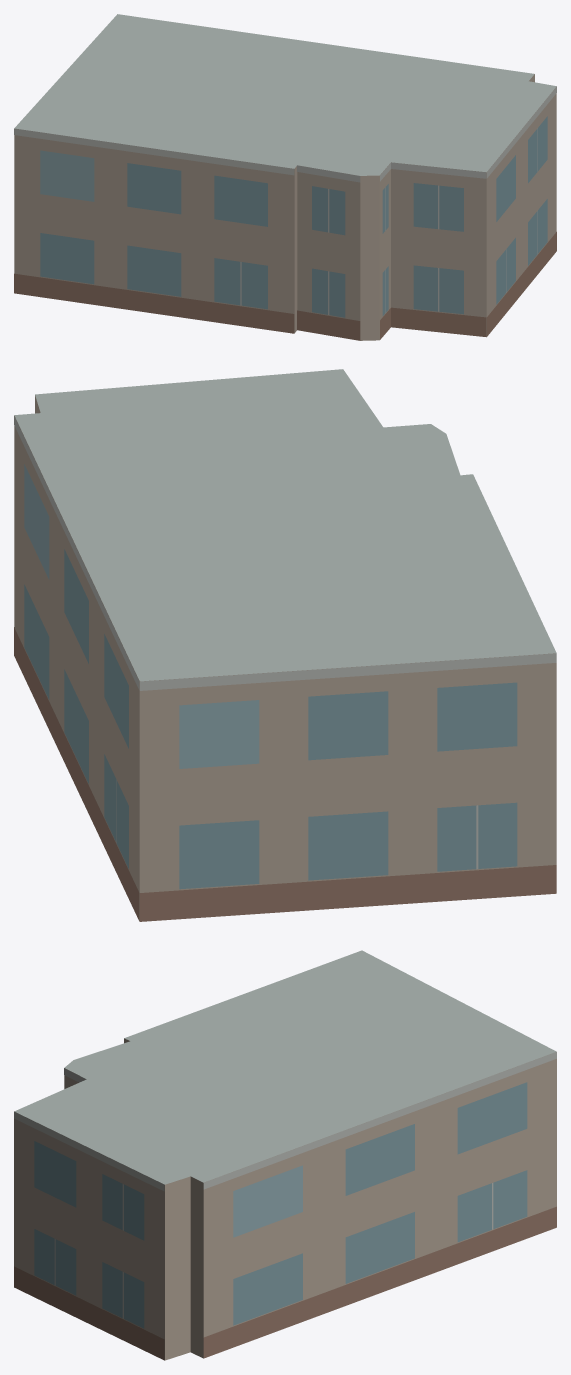
The model's file is survey-upis-33039006.glb.
The picture shows the model from 3 angles, top to bottom: view 1: azimuth 30°, elevation 25°; view 2: azimuth 150°, elevation 25°; view 3: azimuth 270°, elevation 25°; orthographic projection. The views are drawn at different scales.
Parts seen in each view (by area): view 1: survey-upis-33039006.tmp; view 2: survey-upis-33039006.tmp; view 3: survey-upis-33039006.tmp.
Boxes of the visible parts, bbox=[...] form: survey-upis-33039006.tmp: bbox=[14, 14, 556, 340]; survey-upis-33039006.tmp: bbox=[14, 369, 556, 921]; survey-upis-33039006.tmp: bbox=[14, 950, 556, 1360].
Bounding box in the file's own units: 17.44 × 6.1 × 17.07.
